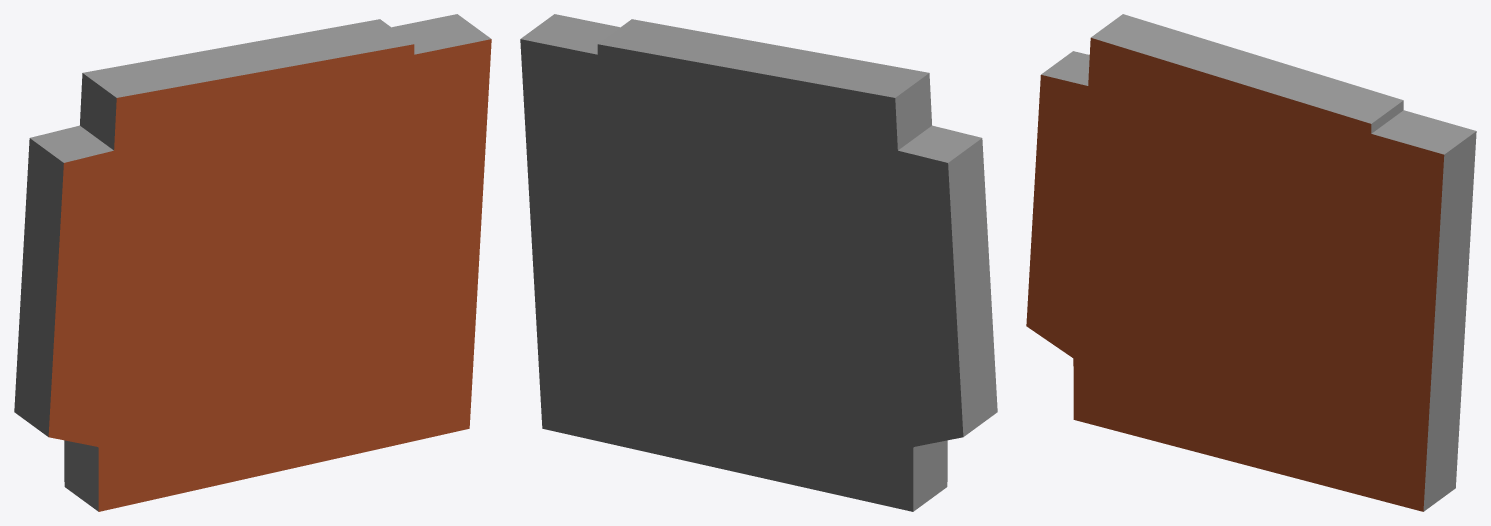
Rendered from construction_6997_assumed_A_Casa_h6m.obj.
3 renders of one model, left to right at view 1: azimuth 30°, elevation 25°; view 2: azimuth 150°, elevation 25°; view 3: azimuth 330°, elevation 25°, orthographic. The views are drawn at different scales.
Parts seen in each view (by area): view 1: construction_6997_assumed_A_Casa; view 2: construction_6997_assumed_A_Casa; view 3: construction_6997_assumed_A_Casa.
Part boxes in pixels (x1,y1,x2,y2): construction_6997_assumed_A_Casa: (14, 14, 491, 511); construction_6997_assumed_A_Casa: (520, 14, 997, 511); construction_6997_assumed_A_Casa: (1026, 14, 1476, 511).
Bounding box in the file's own units: 44.77 × 40.24 × 6.
